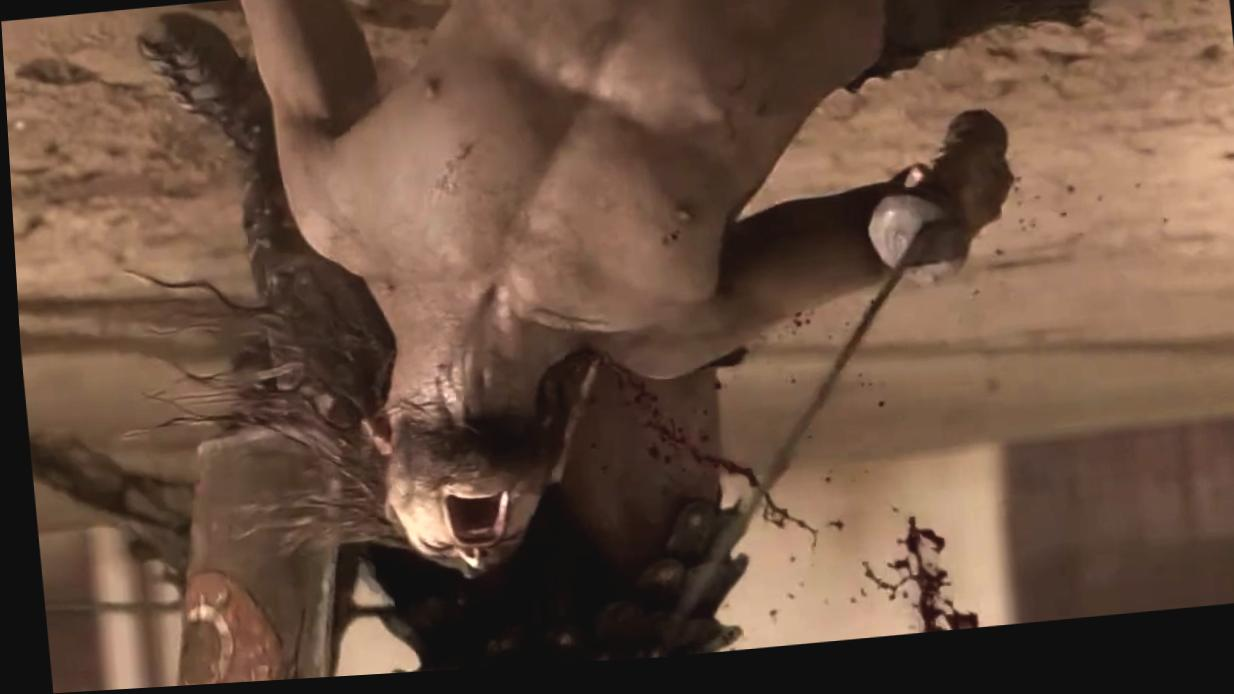Fire: (581, 370, 810, 560), (857, 530, 970, 644)
